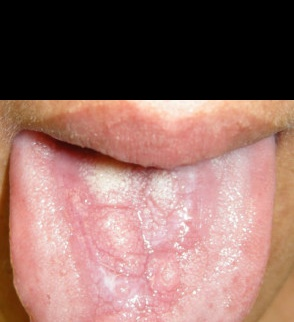SJS-TEN: (62, 134, 236, 322)
